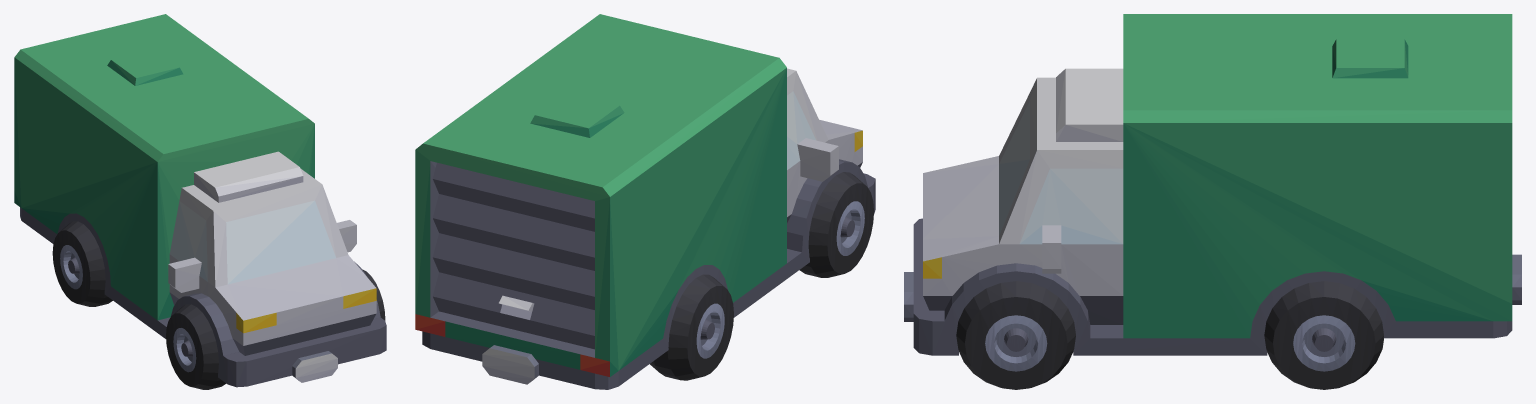
The model's file is delivery.glb.
The picture shows the model from 3 angles, left to right: view 1: azimuth 30°, elevation 25°; view 2: azimuth 150°, elevation 25°; view 3: azimuth 270°, elevation 25°; orthographic projection. The views are drawn at different scales.
Parts seen in each view (by area): view 1: body, wheel_fl_mesh, wheel_rl_mesh; view 2: body, door, wheel_rl_mesh, wheel_fl_mesh; view 3: body, wheel_rr_mesh, wheel_fr_mesh.
Boxes of the visible parts, box(x1,y1,x2,y2) form: body: box(14, 14, 386, 387); wheel_fl_mesh: box(166, 304, 225, 389); wheel_rl_mesh: box(52, 221, 112, 306); body: box(415, 14, 875, 389); door: box(432, 162, 594, 349); wheel_rl_mesh: box(650, 274, 733, 380); wheel_fl_mesh: box(799, 172, 873, 277); body: box(904, 14, 1521, 355); wheel_rr_mesh: box(1264, 281, 1383, 389); wheel_fr_mesh: box(956, 281, 1075, 389).
Size of the model in its own units: 1.77 by 1.95 by 3.84.
